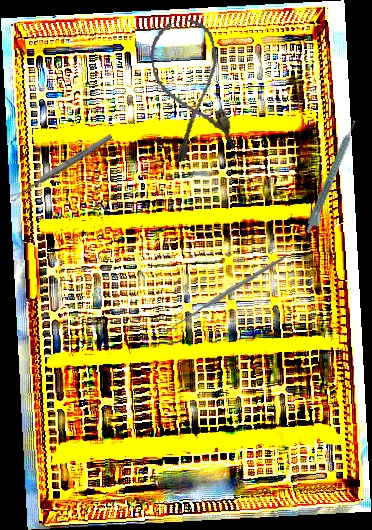Cannula: (144, 15, 237, 164)
Handpiece: (303, 119, 364, 236)
Hook Surgical: (163, 254, 289, 341)
Surgical Spoon: (8, 132, 114, 203)
